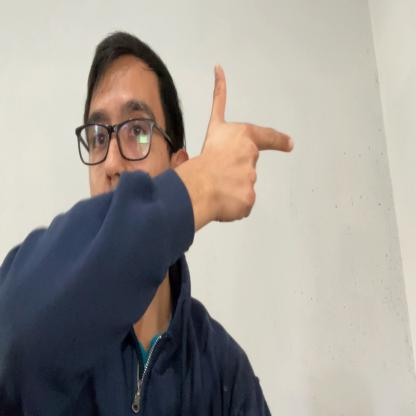G: (208, 61, 294, 221)
